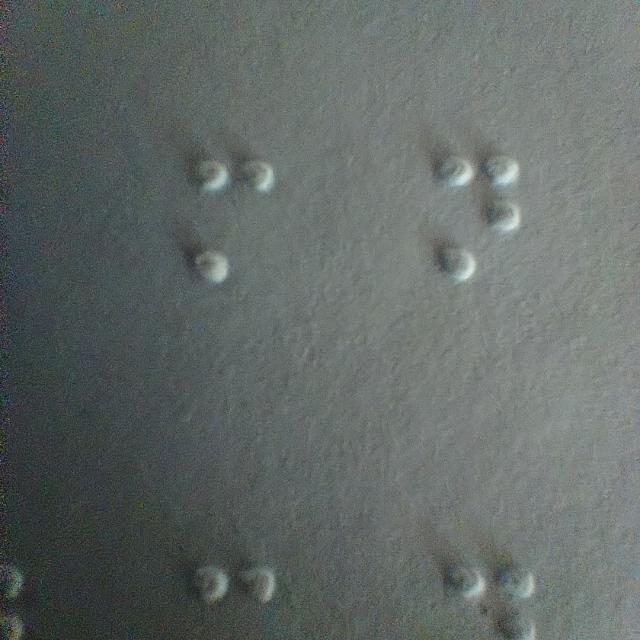m: (189, 157, 276, 286)
n: (434, 151, 521, 280)
